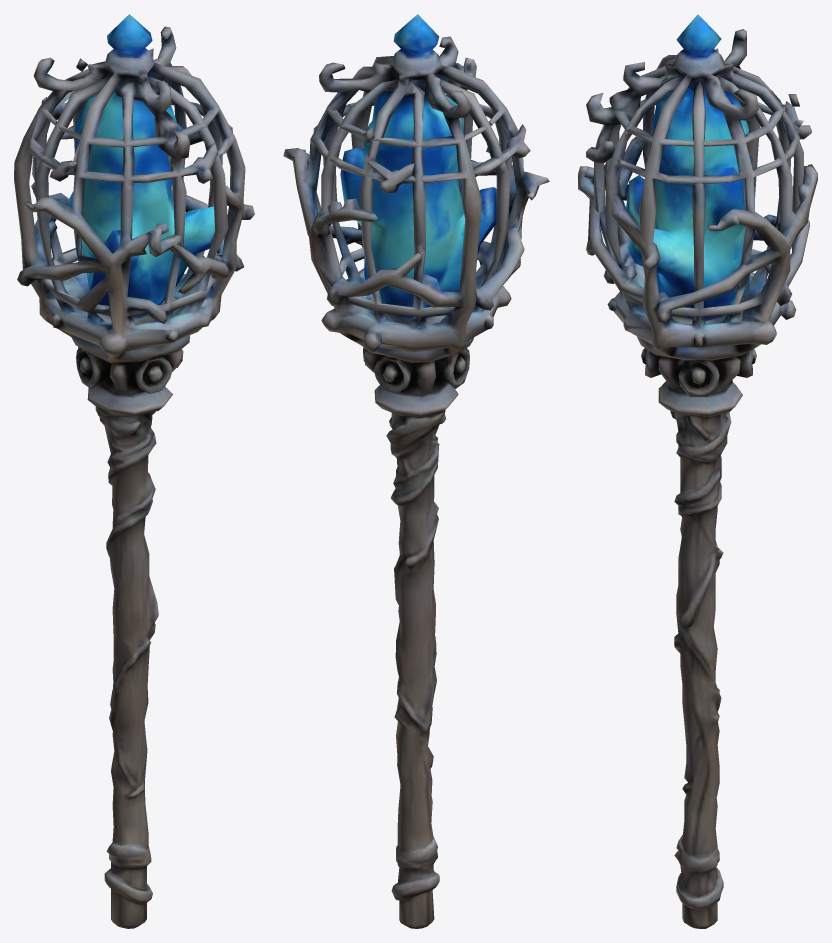
The model's file is w_staff_fine.glb.
The picture shows the model from 3 angles, left to right: view 1: azimuth 30°, elevation 25°; view 2: azimuth 150°, elevation 25°; view 3: azimuth 270°, elevation 25°; orthographic projection.
Visible parts, largest first — view 1: tripo_node_5a33af1d-84e2-4e67-a807-fd654271f212; view 2: tripo_node_5a33af1d-84e2-4e67-a807-fd654271f212; view 3: tripo_node_5a33af1d-84e2-4e67-a807-fd654271f212.
Boxes of the visible parts, x1,y1,x2,y2 form: tripo_node_5a33af1d-84e2-4e67-a807-fd654271f212: [14, 14, 254, 928]; tripo_node_5a33af1d-84e2-4e67-a807-fd654271f212: [283, 14, 549, 928]; tripo_node_5a33af1d-84e2-4e67-a807-fd654271f212: [578, 14, 817, 928].
Size of the model in its own units: 0.2603 by 1 by 0.2388.
1 material, 1 textured.
